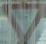Give way: (1, 5, 43, 43)
